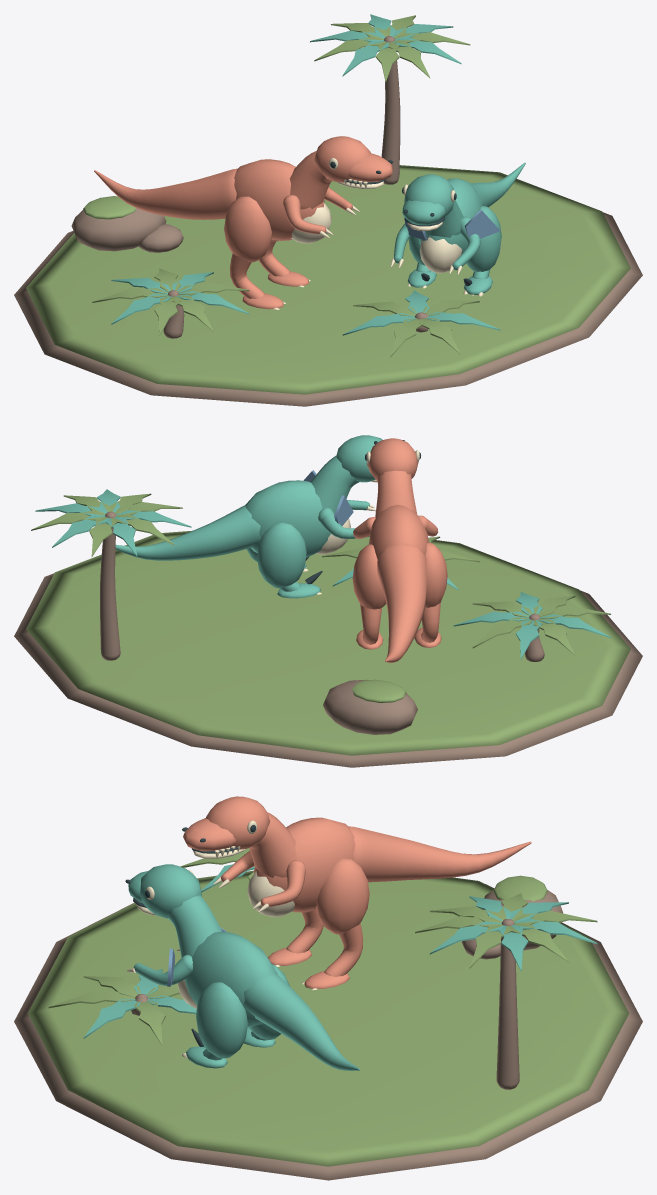
File: lost-valley-dinosaurs-predator-clearing-81a606f7__1684.glb
3 views of the same model, one above another, from view 1: azimuth 30°, elevation 25°; view 2: azimuth 150°, elevation 25°; view 3: azimuth 270°, elevation 25° (orthographic). The views are drawn at different scales.
Visible parts, largest first — view 1: 000-habitat-island/1, 001-tyrannosaurus/0, 000-habitat-island/0, 002-velociraptor/0, 006-mossy-boulders/0, 003-tree-fern/1, 004-cycad/1, 003-tree-fern/2, 005-ground-fern/1, 004-cycad/2, 003-tree-fern/0, 002-velociraptor/1 (+4 smaller); view 2: 000-habitat-island/1, 001-tyrannosaurus/0, 002-velociraptor/0, 000-habitat-island/0, 006-mossy-boulders/0, 003-tree-fern/1, 004-cycad/1, 003-tree-fern/2, 003-tree-fern/0, 004-cycad/2, 006-mossy-boulders/1, 002-velociraptor/1; view 3: 000-habitat-island/1, 001-tyrannosaurus/0, 002-velociraptor/0, 000-habitat-island/0, 003-tree-fern/1, 003-tree-fern/2, 003-tree-fern/0, 005-ground-fern/1, 001-tyrannosaurus/1, 005-ground-fern/2, 006-mossy-boulders/1, 006-mossy-boulders/0.
Part boxes in pixels (box(x1,y1,x2,y2)): 000-habitat-island/1: box(26, 165, 630, 394); 001-tyrannosaurus/0: box(94, 136, 393, 309); 000-habitat-island/0: box(14, 212, 642, 406); 002-velociraptor/0: box(393, 162, 525, 294); 006-mossy-boulders/0: box(71, 208, 183, 252); 003-tree-fern/1: box(314, 15, 470, 82); 004-cycad/1: box(92, 268, 249, 336); 003-tree-fern/2: box(310, 14, 461, 76); 005-ground-fern/1: box(353, 300, 479, 356); 004-cycad/2: box(111, 272, 249, 324); 003-tree-fern/0: box(381, 36, 400, 184); 002-velociraptor/1: box(391, 184, 483, 296); 000-habitat-island/1: box(26, 531, 630, 755); 001-tyrannosaurus/0: box(352, 438, 447, 662); 002-velociraptor/0: box(115, 435, 382, 598); 000-habitat-island/0: box(14, 573, 642, 767); 006-mossy-boulders/0: box(323, 679, 417, 734); 003-tree-fern/1: box(31, 493, 182, 557); 004-cycad/1: box(472, 595, 610, 655); 003-tree-fern/2: box(35, 489, 191, 556); 003-tree-fern/0: box(100, 511, 120, 660); 004-cycad/2: box(453, 592, 610, 659); 006-mossy-boulders/1: box(351, 679, 406, 703); 002-velociraptor/1: box(303, 462, 377, 594); 000-habitat-island/1: box(27, 870, 629, 1166); 001-tyrannosaurus/0: box(183, 796, 531, 988); 002-velociraptor/0: box(128, 864, 360, 1070); 000-habitat-island/0: box(14, 884, 642, 1180); 003-tree-fern/1: box(415, 893, 597, 968); 003-tree-fern/2: box(429, 896, 597, 971); 003-tree-fern/0: box(496, 919, 519, 1089); 005-ground-fern/1: box(48, 976, 179, 1045); 001-tyrannosaurus/1: box(193, 801, 317, 990); 005-ground-fern/2: box(83, 969, 196, 1038); 006-mossy-boulders/1: box(493, 875, 547, 901); 006-mossy-boulders/0: box(462, 890, 562, 959).
Bounding box in the file's own units: 11 × 3.61 × 9.2.
